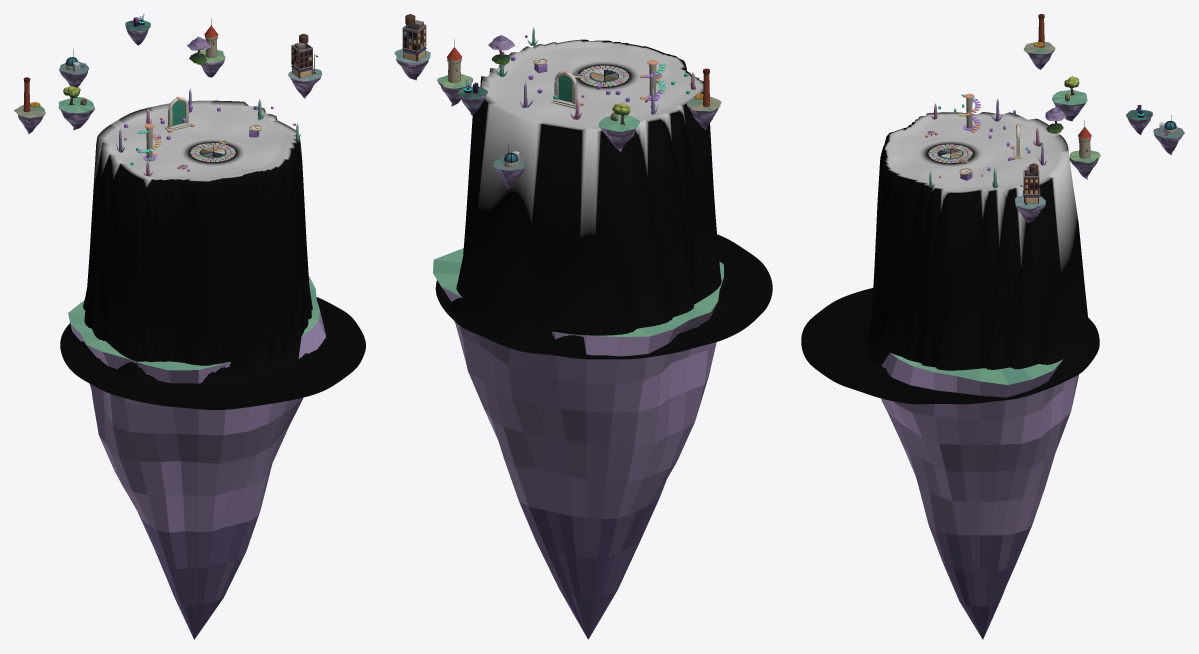
File: era6.glb
The picture shows the model from 3 angles, left to right: view 1: azimuth 30°, elevation 25°; view 2: azimuth 150°, elevation 25°; view 3: azimuth 270°, elevation 25°; orthographic projection. The views are drawn at different scales.
Visible parts, largest first — view 1: grassmap, underside.001, isle_city_body, isle_stone_body, isle_factory_body, isle_castle_body, portal.001, isle_space_body; view 2: grassmap, underside.001, isle_city_body, isle_stone_body, isle_castle_body, isle_factory_body, isle_space_body, portal.001, isle_neon_body, tiles.001, spiral_stairs; view 3: grassmap, underside.001, isle_city_body, isle_stone_body, isle_castle_body, isle_factory_body, isle_space_body.
Boxes of the visible parts, x1,y1,x2,y2 form: grassmap: (60, 100, 365, 409); underside.001: (68, 276, 325, 639); isle_city_body: (288, 33, 321, 98); isle_stone_body: (58, 85, 94, 130); isle_factory_body: (14, 77, 45, 133); isle_castle_body: (195, 18, 225, 77); portal.001: (164, 96, 190, 130); isle_space_body: (59, 49, 88, 87); grassmap: (435, 39, 772, 359); underside.001: (433, 249, 723, 639); isle_city_body: (394, 14, 430, 80); isle_stone_body: (598, 102, 639, 152); isle_castle_body: (437, 39, 472, 106); isle_factory_body: (687, 68, 721, 129); isle_space_body: (493, 145, 525, 189); portal.001: (551, 70, 580, 108); isle_neon_body: (458, 80, 487, 115); tiles.001: (580, 65, 629, 86); spiral_stairs: (640, 59, 665, 100); grassmap: (801, 112, 1099, 404); underside.001: (881, 352, 1078, 639); isle_city_body: (1015, 163, 1045, 222); isle_stone_body: (1052, 76, 1087, 121); isle_castle_body: (1069, 120, 1100, 179); isle_factory_body: (1023, 14, 1055, 69); isle_space_body: (1153, 115, 1184, 155).
Bounding box in the file's own units: 67.64 × 124 × 77.09.
